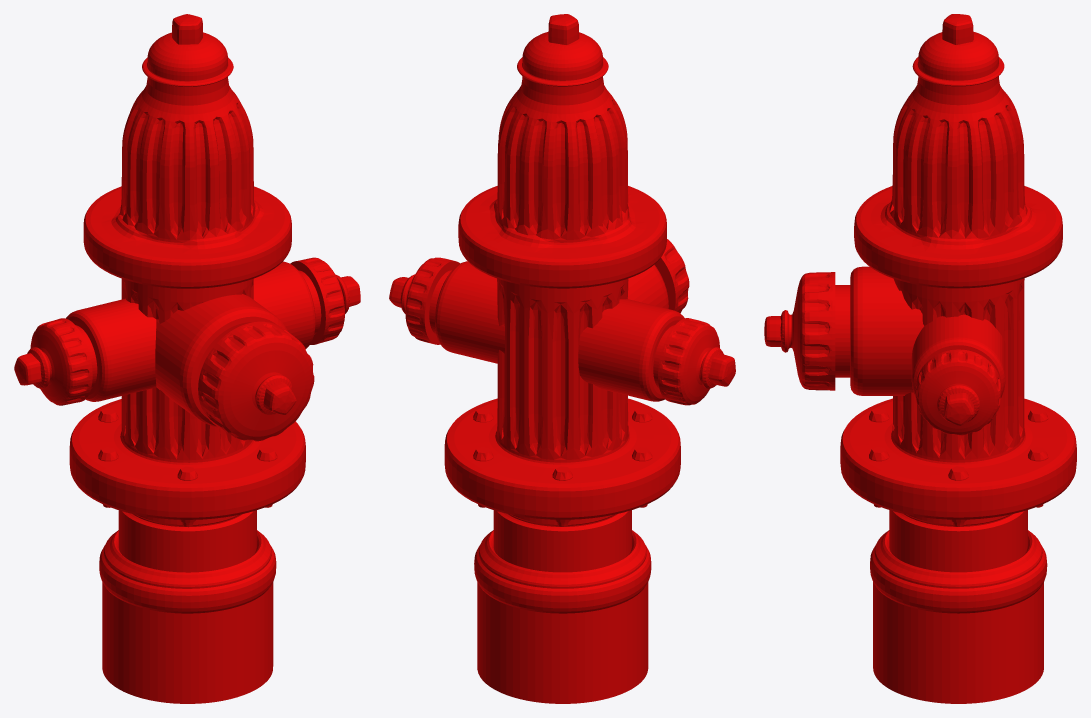
The model's file is sweethome3d-katorlegaz-fire-hydrant-78.glb.
3 renders of one model, left to right at view 1: azimuth 30°, elevation 25°; view 2: azimuth 150°, elevation 25°; view 3: azimuth 270°, elevation 25°, orthographic.
Visible parts, largest first — view 1: fire_hydrant; view 2: fire_hydrant; view 3: fire_hydrant.
Boxes of the visible parts, x1=… form: fire_hydrant: x1=14, y1=14, x2=360, y2=703; fire_hydrant: x1=389, y1=14, x2=735, y2=703; fire_hydrant: x1=764, y1=14, x2=1076, y2=703.
Size of the model in its own units: 41.42 by 76.42 by 33.31.
